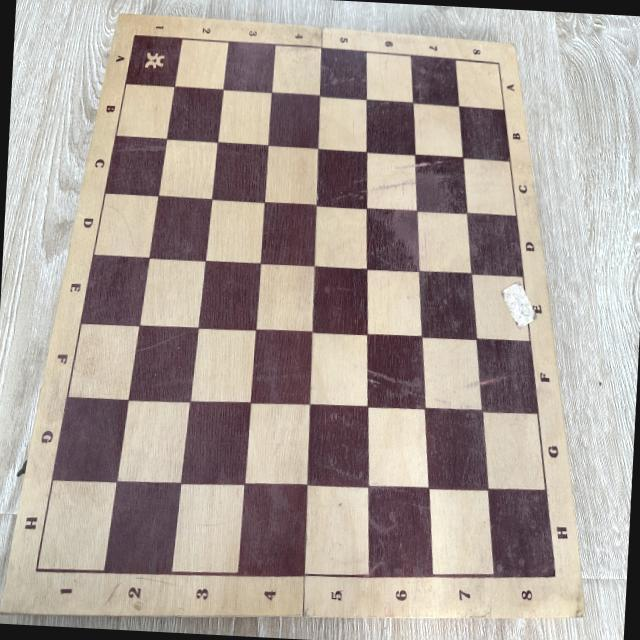chess-table-corners: (126, 22, 146, 49), (26, 556, 46, 582), (545, 565, 565, 587), (490, 55, 506, 73)
